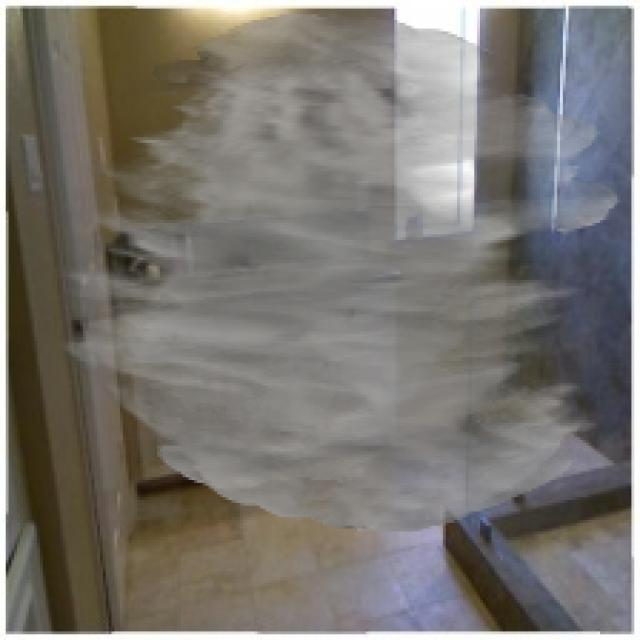smoke: (54, 11, 620, 532)
